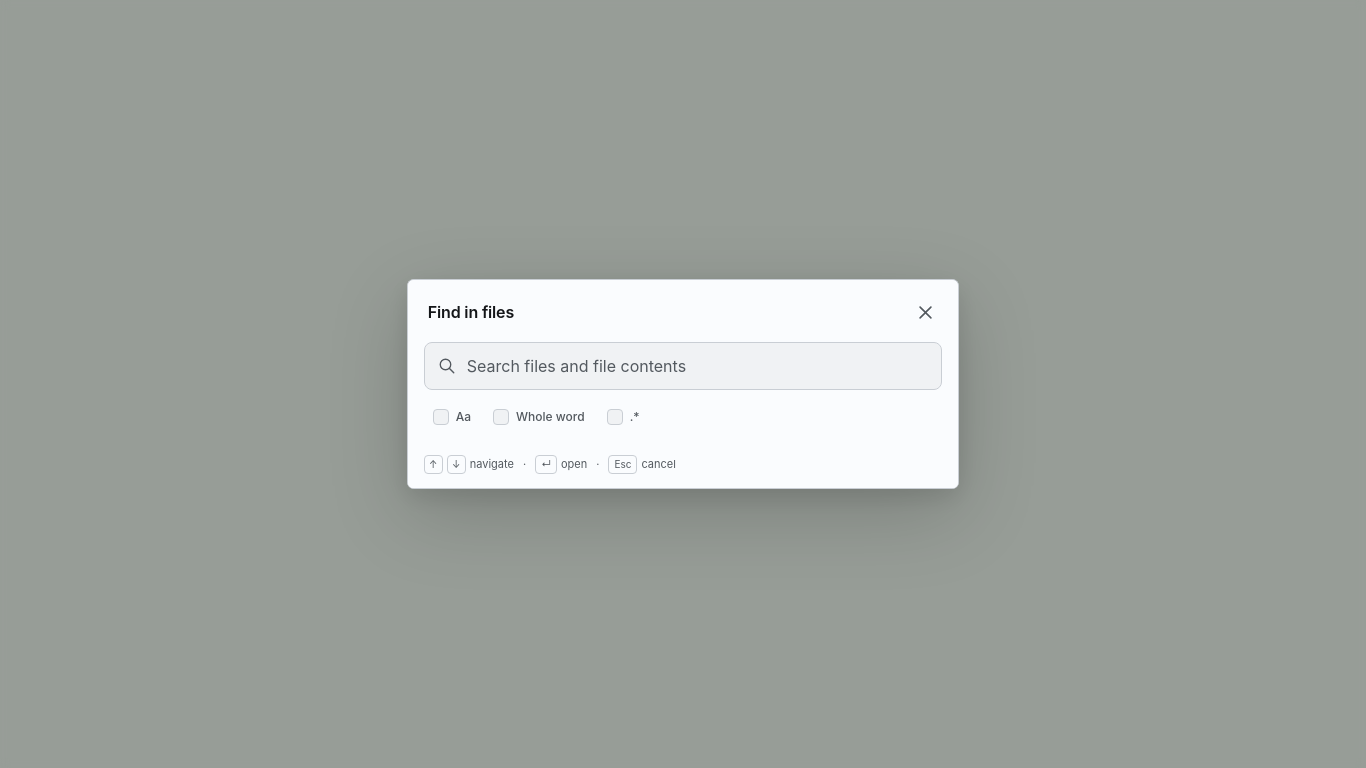
Test case: TextSearchPalette › shows text-content matches from the search backend
The width and height of the screenshot is (1366, 768).
Type "foo" into the field with test id "text-search-input" at (683, 366), box [424,342,942,390]
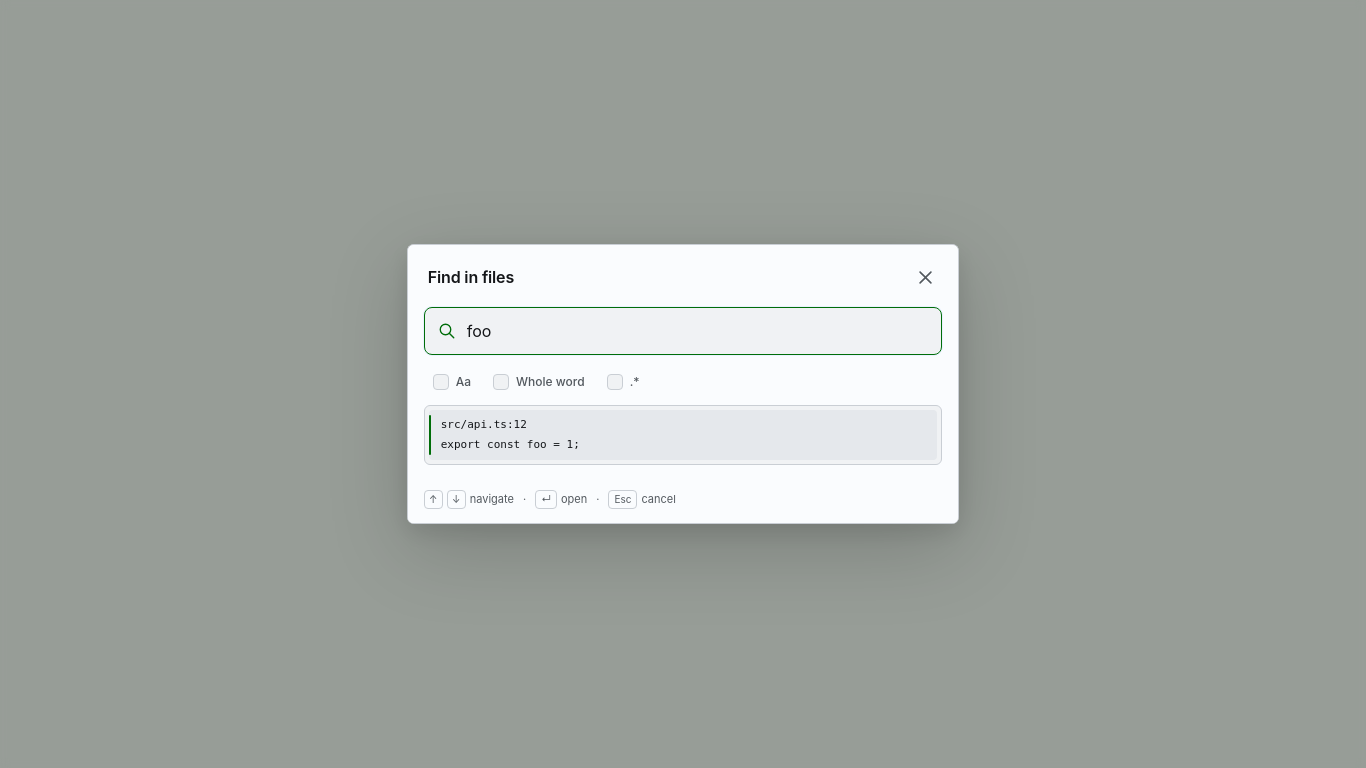
Expected: the list item with test id "text-search-text-result" shows "src/api.ts:12", [429,410,937,460]
Expected: the list item with test id "text-search-text-result" shows "export const foo = 1;", [441,438,580,450]
